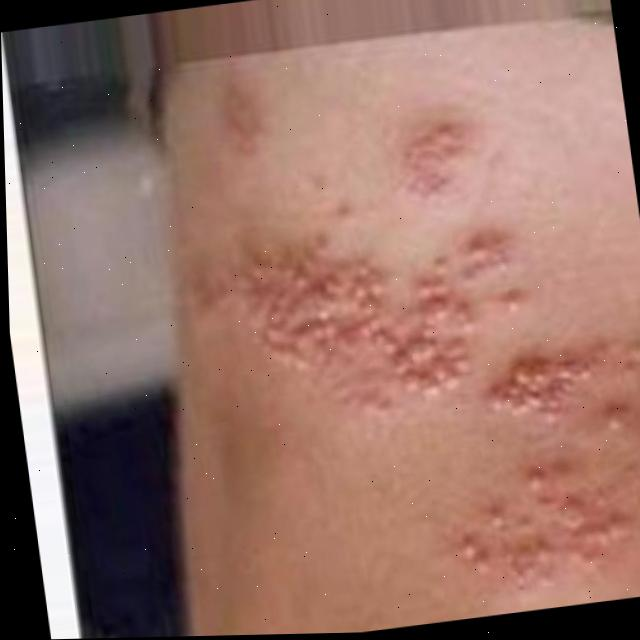Shingles: (194, 180, 640, 636), (392, 109, 480, 201), (207, 81, 269, 165)
